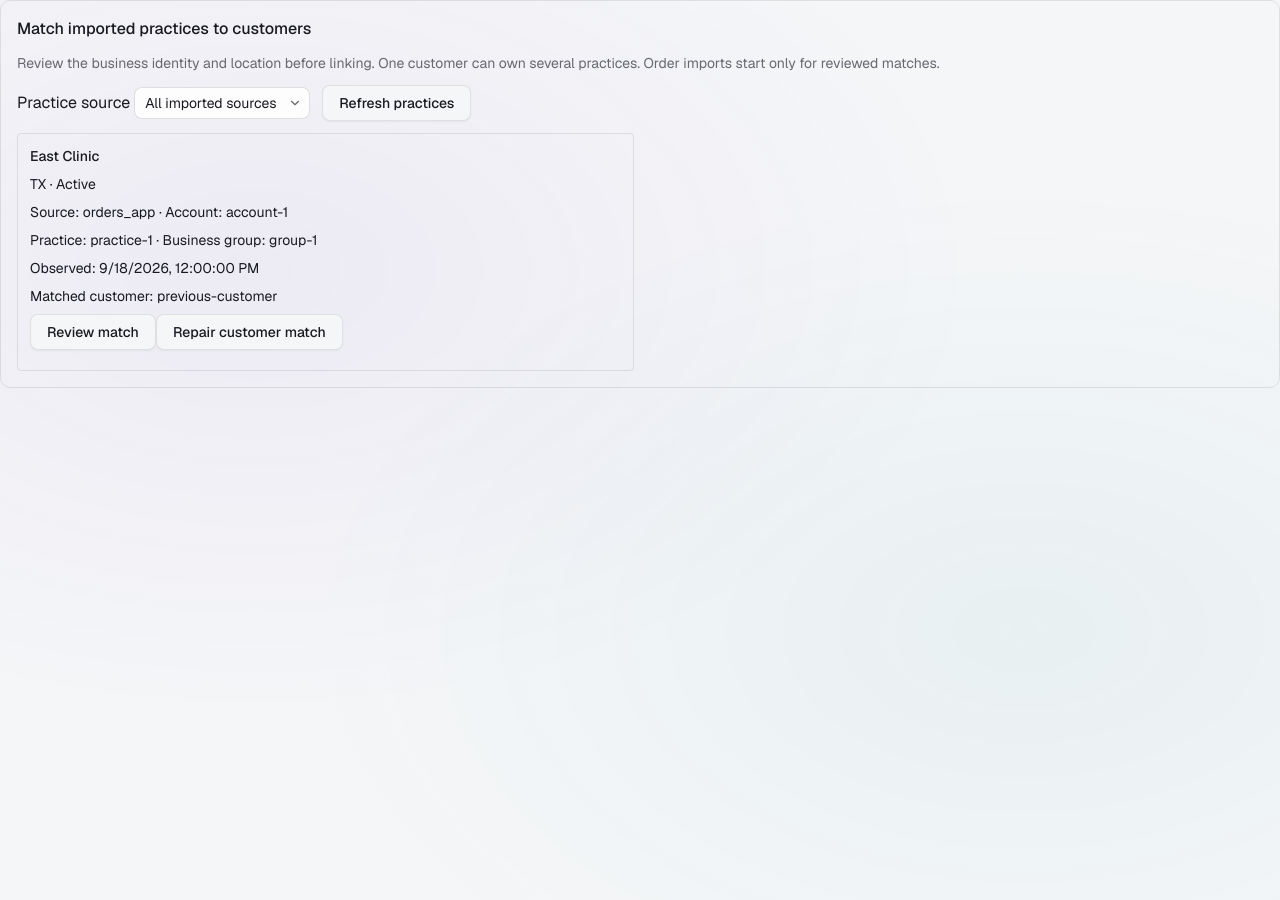
Test case: Business identity review › requires a separate ownership repair and submits the reviewed binding generation
Step 1. Click the button with aria-label "Repair customer match for East Clinic" → (249, 332), box [156,314,343,350]
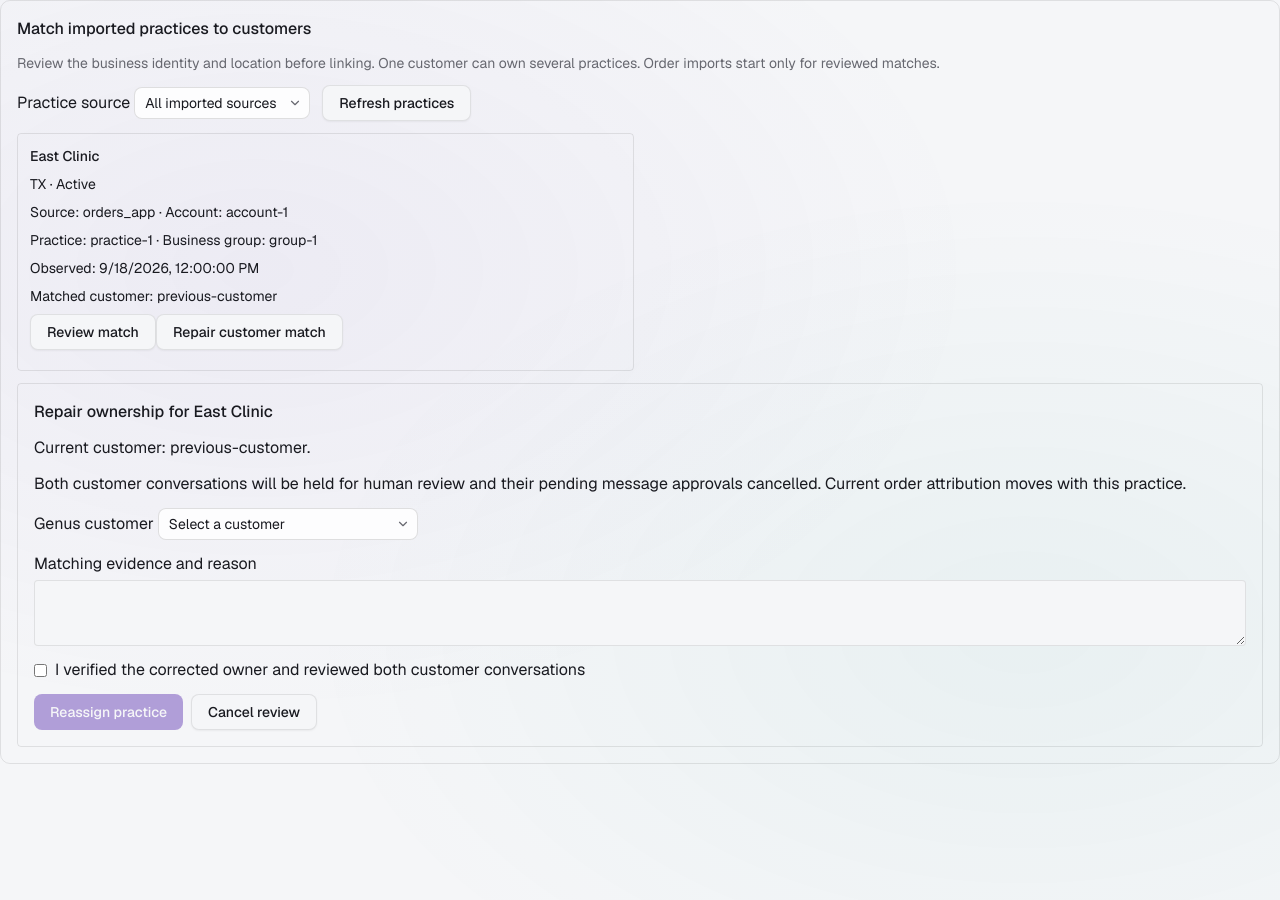
Expected: the text "Both customer conversations will be held" is shown, [34,473,1186,494]
Expected: the button "Reassign practice" is disabled, [34,694,183,730]
Step 2. Select "Example Customer · example.com" in the dropdown labelled "Genus customer" → (288, 524), box [158,508,418,540]
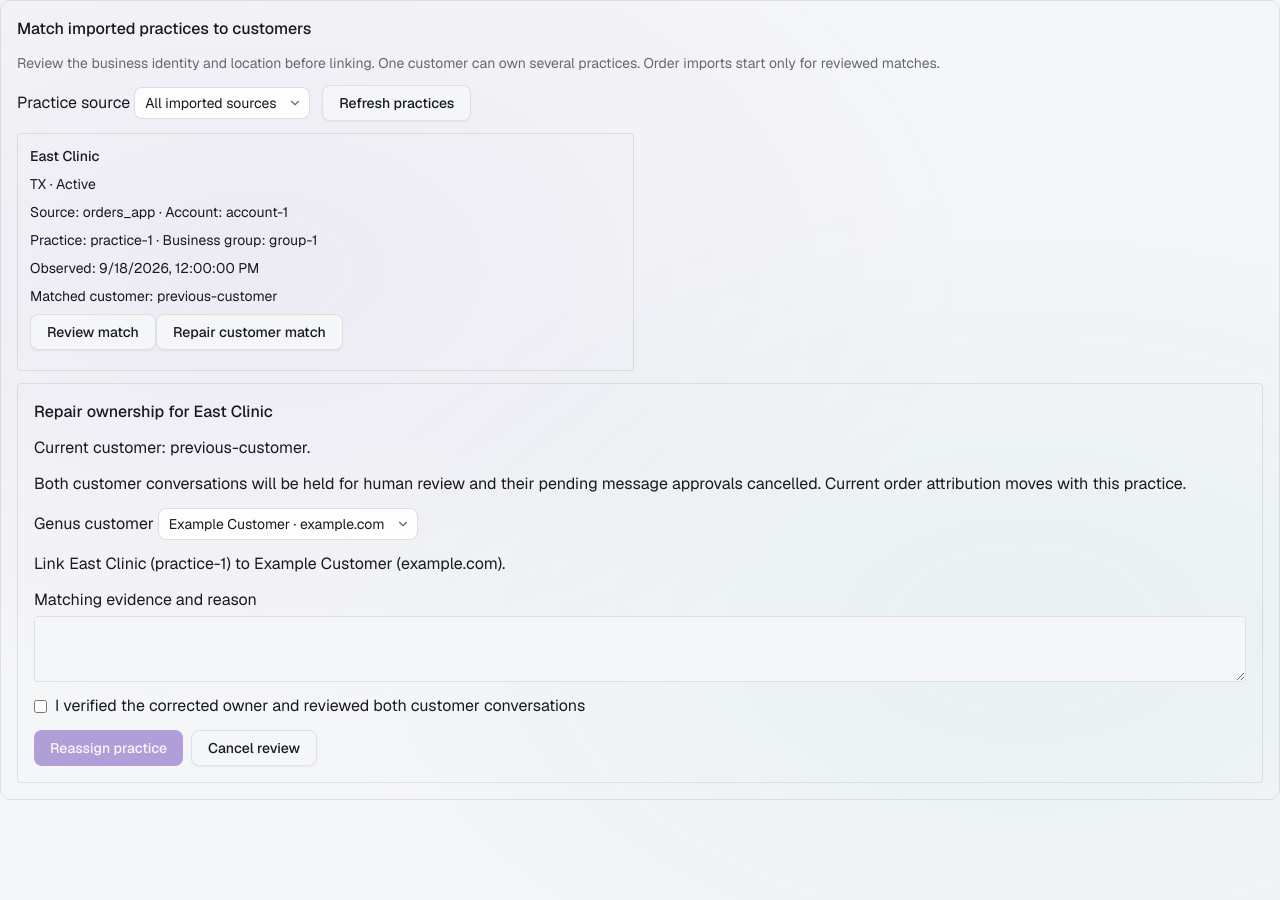
Step 3. Type "Reviewed corrected ownership with both customer records" into the text box labelled "Matching evidence and reason" → (640, 649), box [34,616,1246,682]
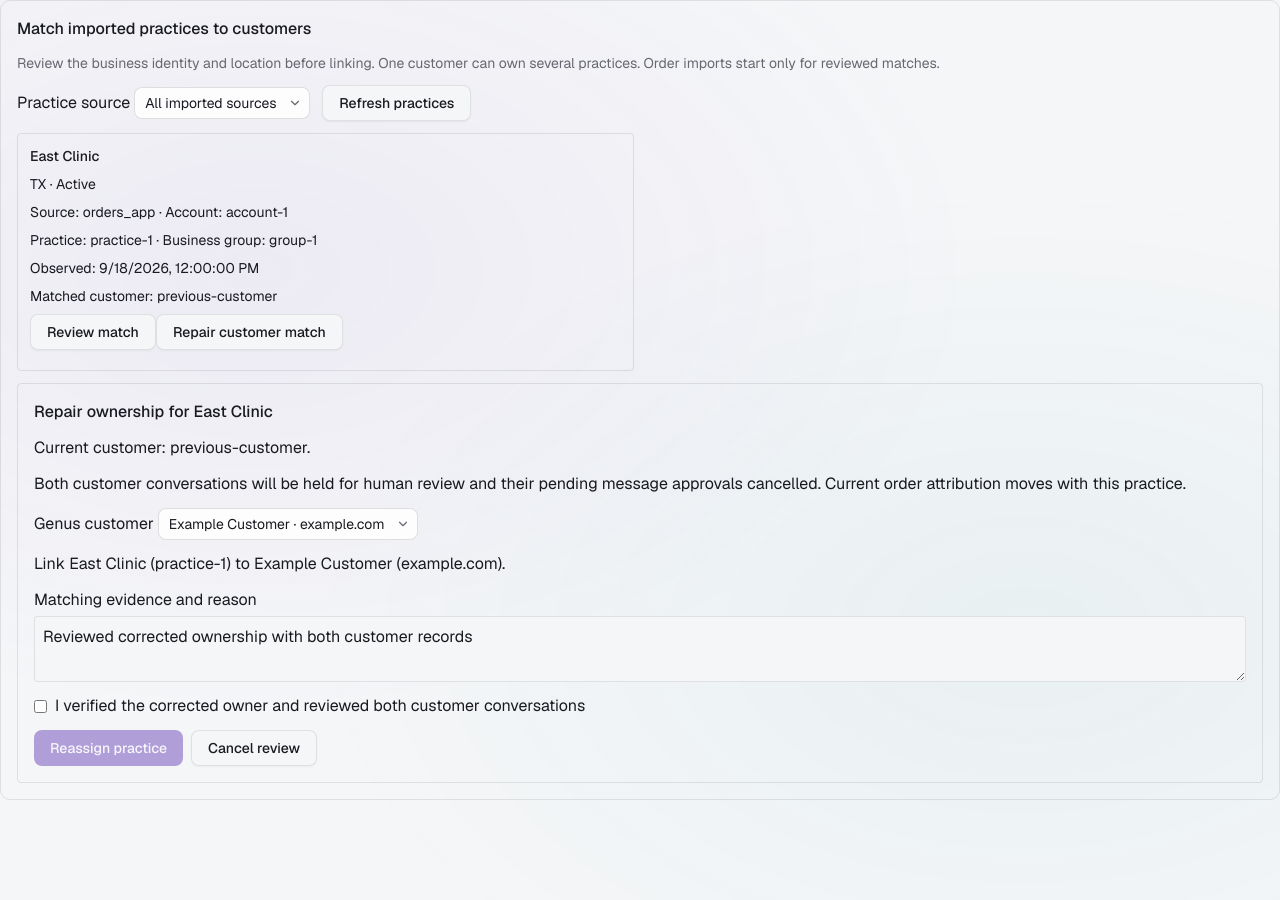
Expected: the button "Reassign practice" is disabled, [34,730,183,766]
Step 4. Click the checkbox labelled "I verified the corrected owner and reviewed both customer conversations" → (40, 706), box [34,700,47,712]
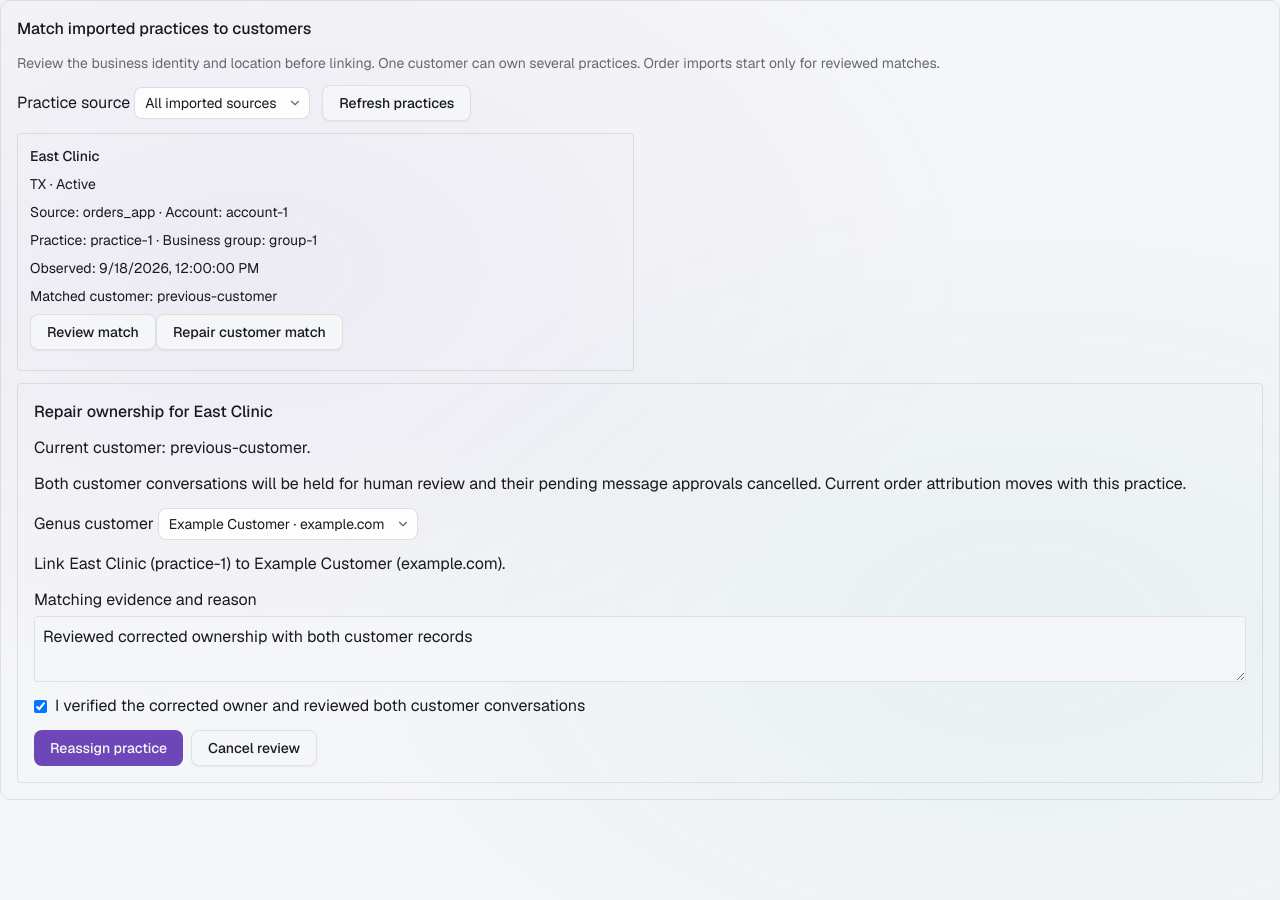
Step 5. Click the button "Reassign practice" → (108, 748), box [34,730,183,766]
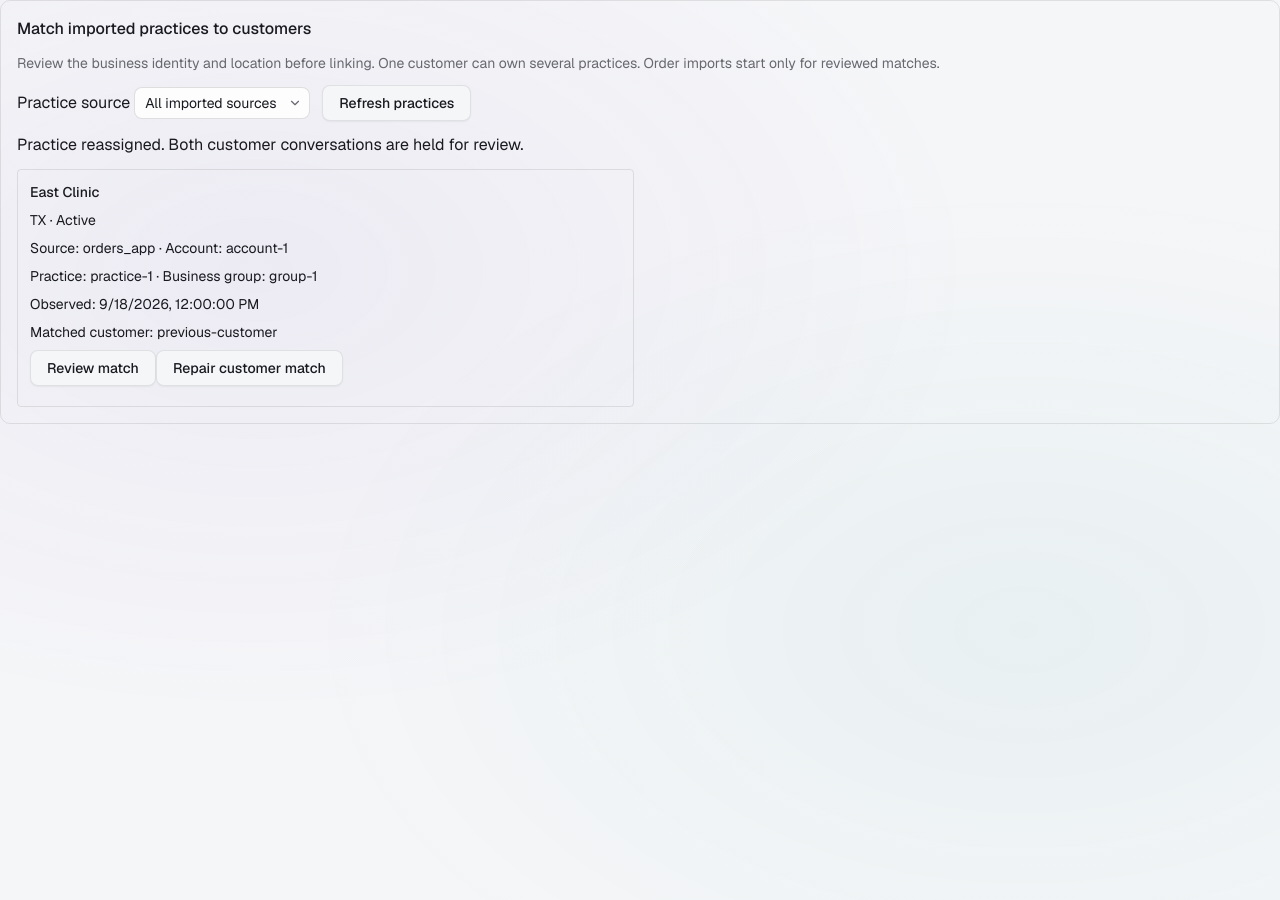
Expected: the message shows "Practice reassigned", [17,134,523,155]
